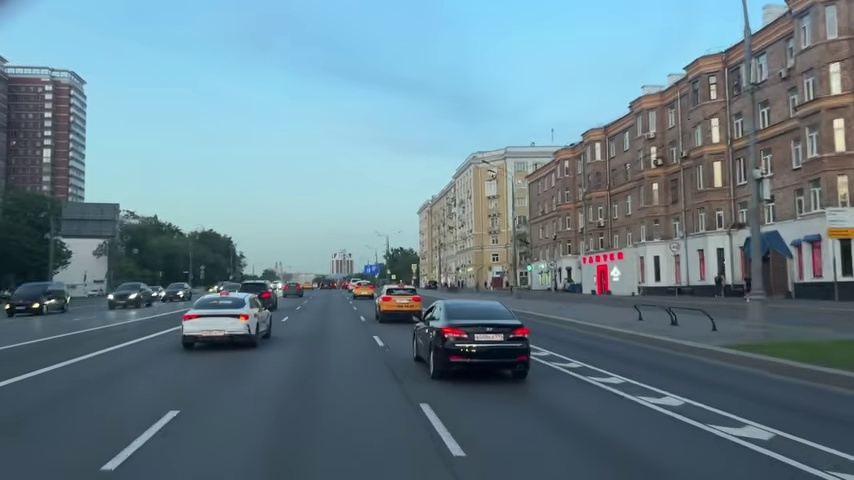apagada: (150, 408, 180, 434)
